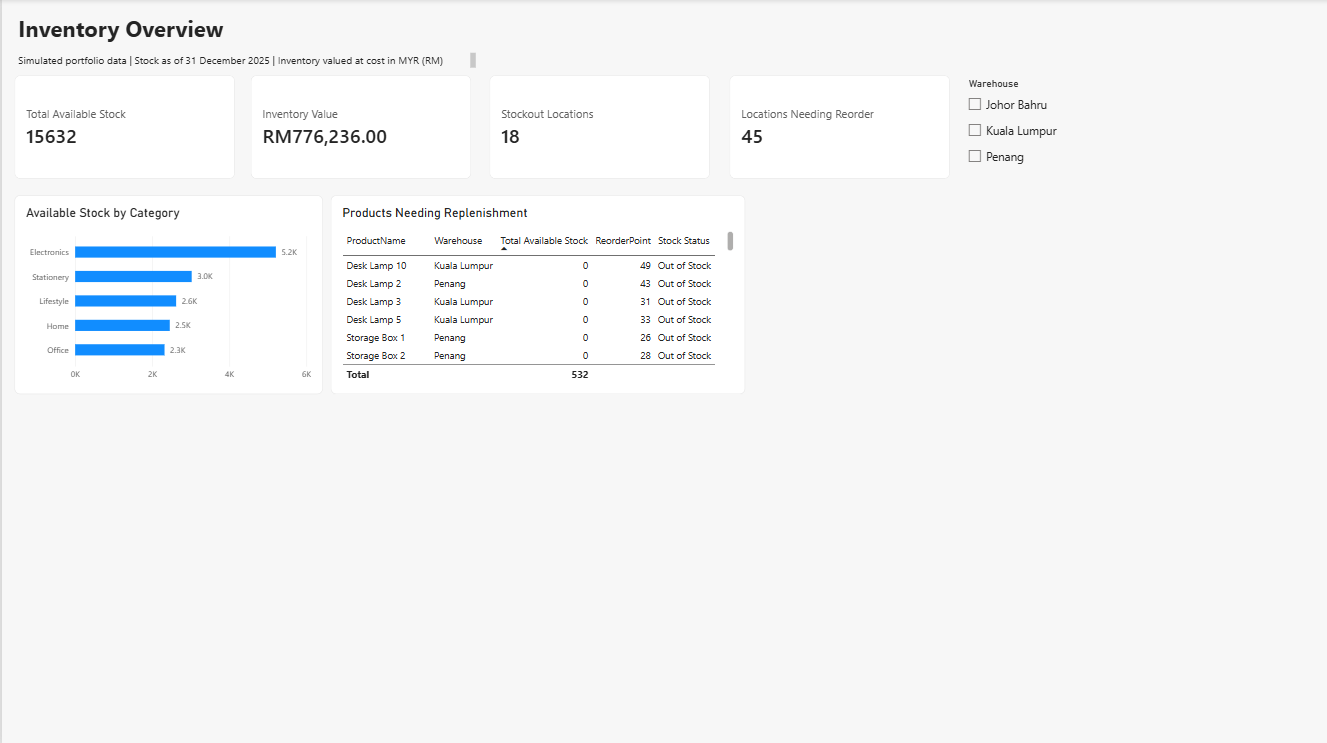

This screenshot's page, from the dashboard's own definition file:
{"tool":"powerbi","page":{"name":"Inventory Overview","canvas":[1920,1080],"ordinal":0},"visuals":[{"type":"textbox","box":[22.6,20.6,319,57.6],"z":0},{"type":"cardVisual","fields":{"Data":["Inventory.Total Available Stock"]},"box":[18.5,110.9,319,150],"z":1000},{"type":"cardVisual","fields":{"Data":["Inventory.Inventory Value"]},"box":[360.2,110.9,319,150],"z":2000},{"type":"cardVisual","fields":{"Data":["Inventory.Stockout Locations"]},"box":[705.2,110.9,319,150],"z":3000},{"type":"cardVisual","fields":{"Data":["Inventory.Locations Needing Reorder"]},"box":[1053.5,110.9,319,150],"z":4000},{"type":"slicer","fields":{"Values":["Warehouses.Warehouse"]},"box":[1391.8,114.3,375,146.7],"z":5000},{"type":"clusteredBarChart","title":"Available Stock by Category","fields":{"Category":["Products.Category"],"Y":["Inventory.Total Available Stock"]},"box":[18.5,284.3,446.7,288.3],"z":6000},{"type":"tableEx","title":"Products Needing Replenishment","fields":{"Values":["Products.ProductName","Warehouses.Warehouse","Inventory.Total Available Stock","Products.ReorderPoint","Inventory.Stock Status"]},"box":[476,284,600,288],"z":7000},{"type":"textbox","box":[22.6,78.2,662.8,28.8],"z":8000}]}

Visuals, with their boxes in screenshot pixels (x1, y1, x2, y2), scaled from the page's 1920x1080 canvas onto the 1327x743 screenshot:
textbox: (16, 14, 236, 54)
cardVisual - Inventory.Total Available Stock: (13, 76, 233, 179)
cardVisual - Inventory.Inventory Value: (249, 76, 469, 179)
cardVisual - Inventory.Stockout Locations: (487, 76, 708, 179)
cardVisual - Inventory.Locations Needing Reorder: (728, 76, 949, 179)
slicer - Warehouses.Warehouse: (962, 79, 1221, 180)
"Available Stock by Category" clusteredBarChart: (13, 196, 322, 394)
"Products Needing Replenishment" tableEx: (329, 195, 744, 394)
textbox: (16, 54, 474, 74)
